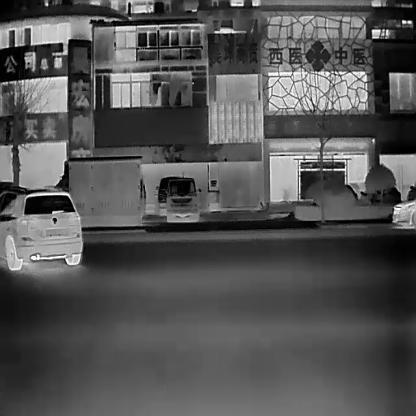car: (0, 190, 82, 268), (167, 176, 199, 221), (154, 176, 180, 216)
